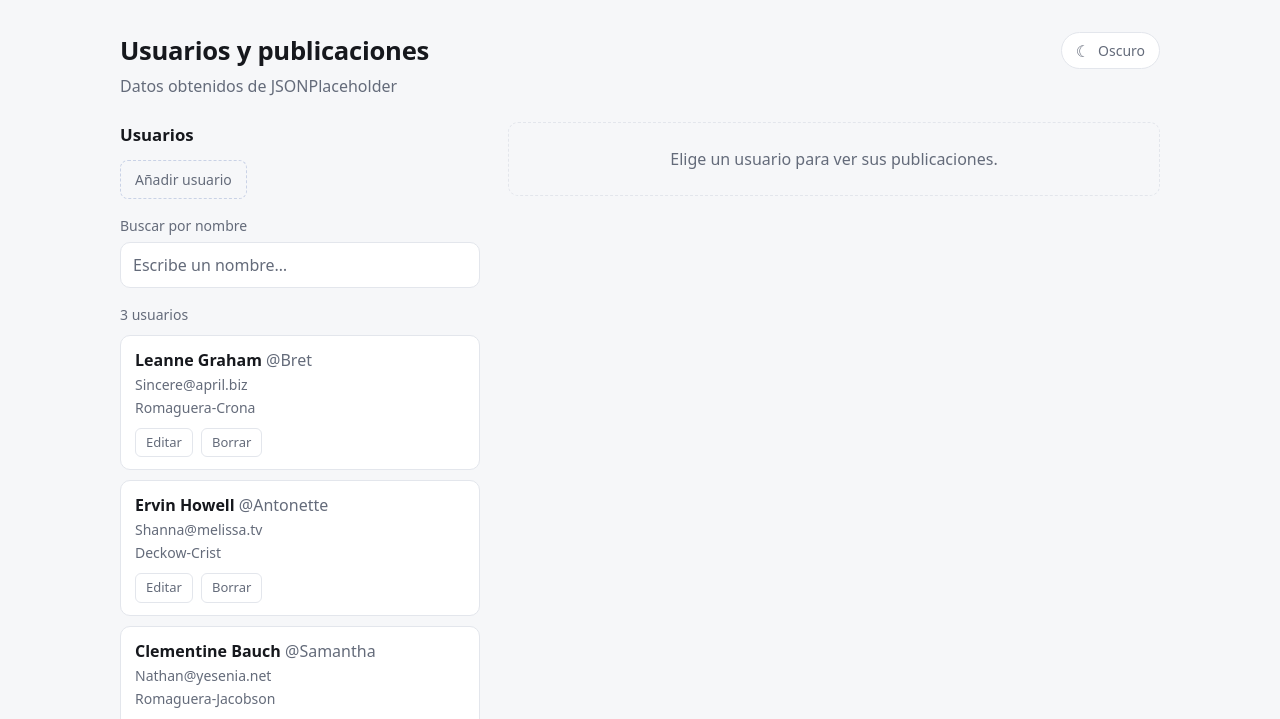
App › avisa cuando la búsqueda no encuentra ningún usuario
Expected: the button with aria-label "ver publicaciones de leanne graham" is shown, [135,348,465,418]
Type "nadie" into the search field labelled "Buscar por nombre" at coordinates (300, 265), box [120,242,480,288]
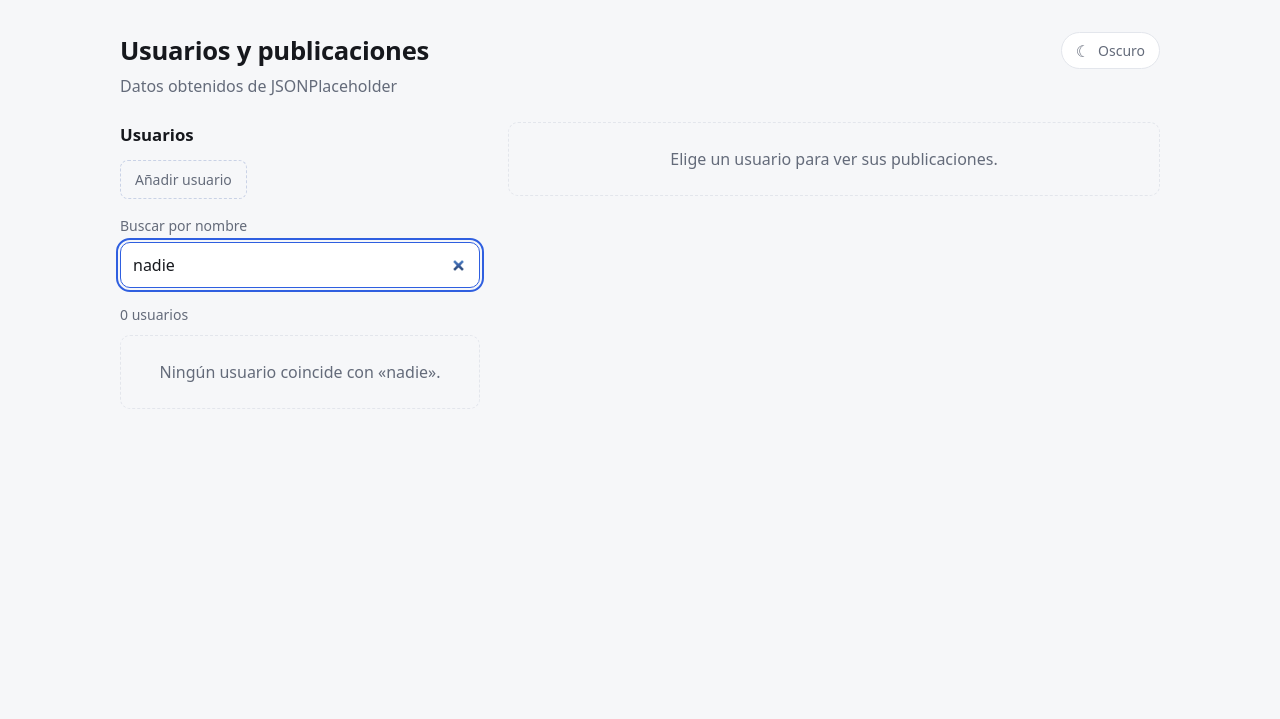
Expected: the text "Ningún usuario coincide con «nadie»." is shown, [120,335,480,409]
